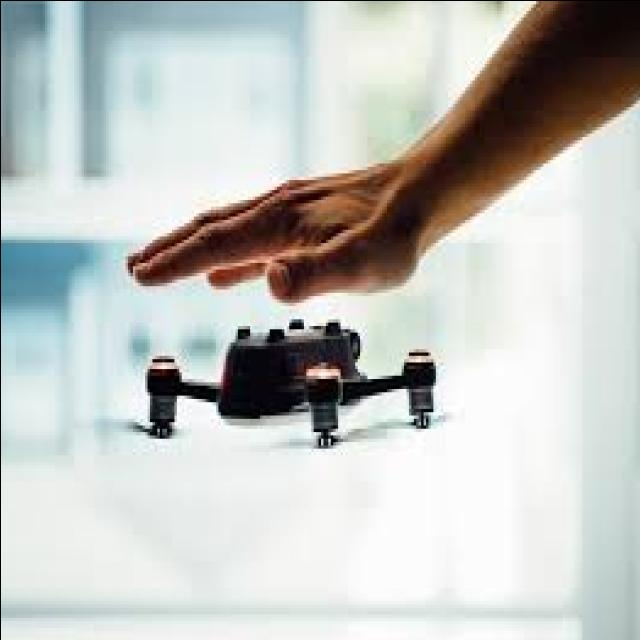drone: (102, 286, 462, 476)
